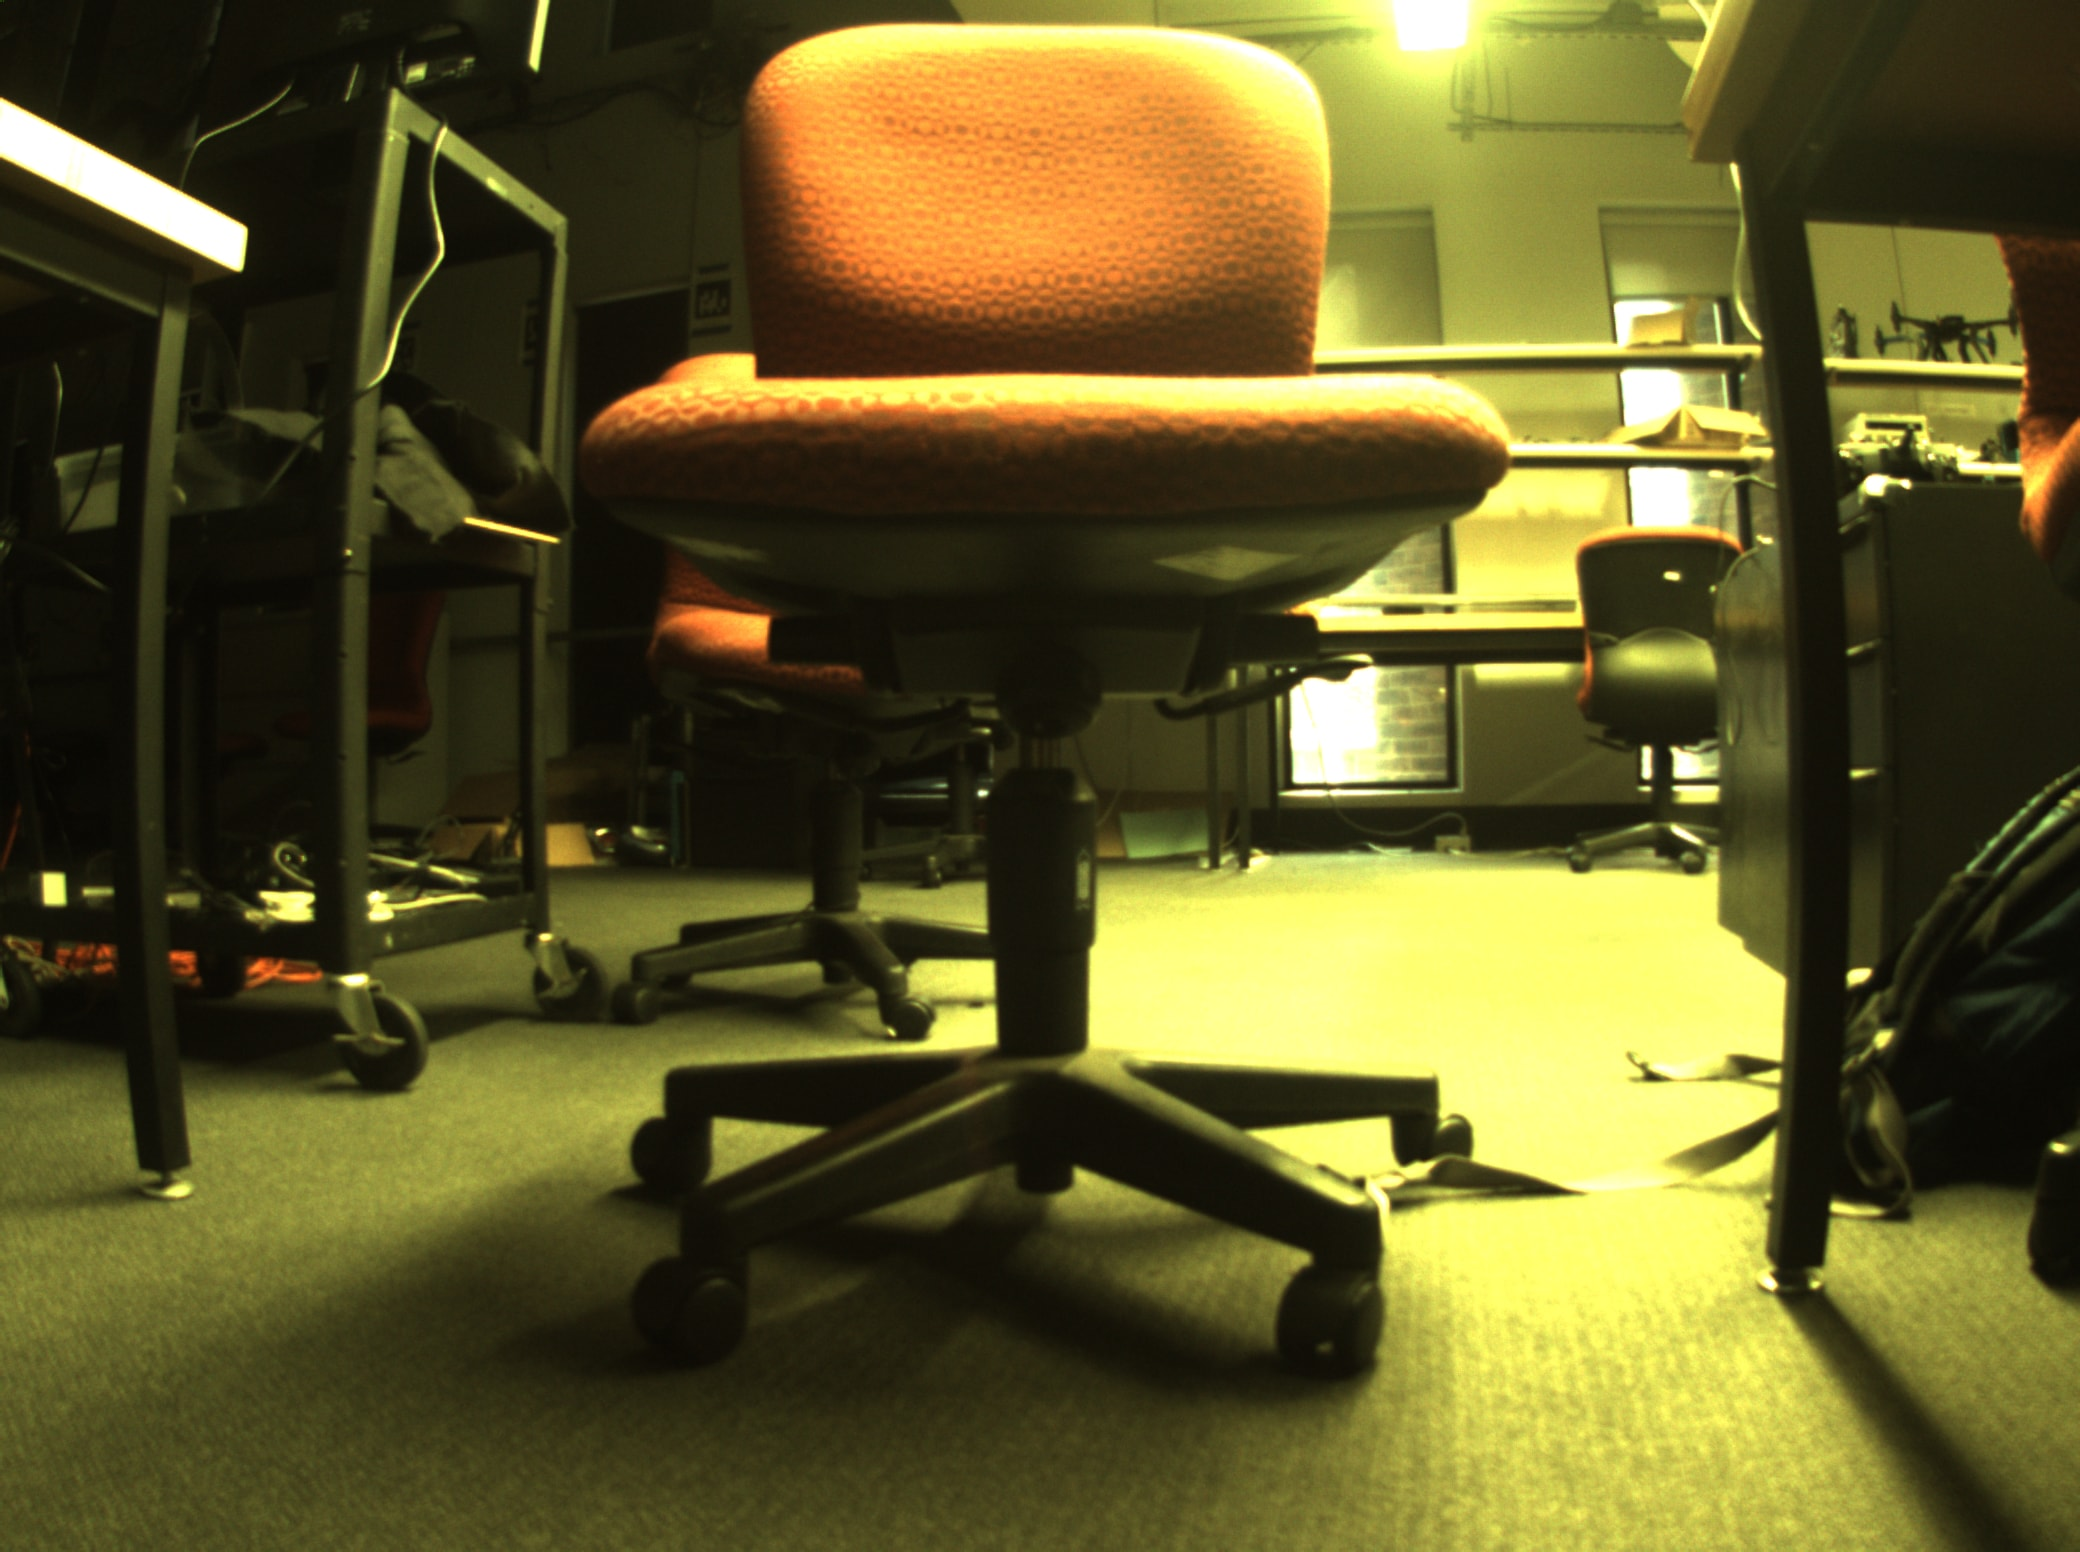chair: (616, 11, 1509, 1426), (619, 311, 1043, 1052), (1550, 509, 1765, 919)
